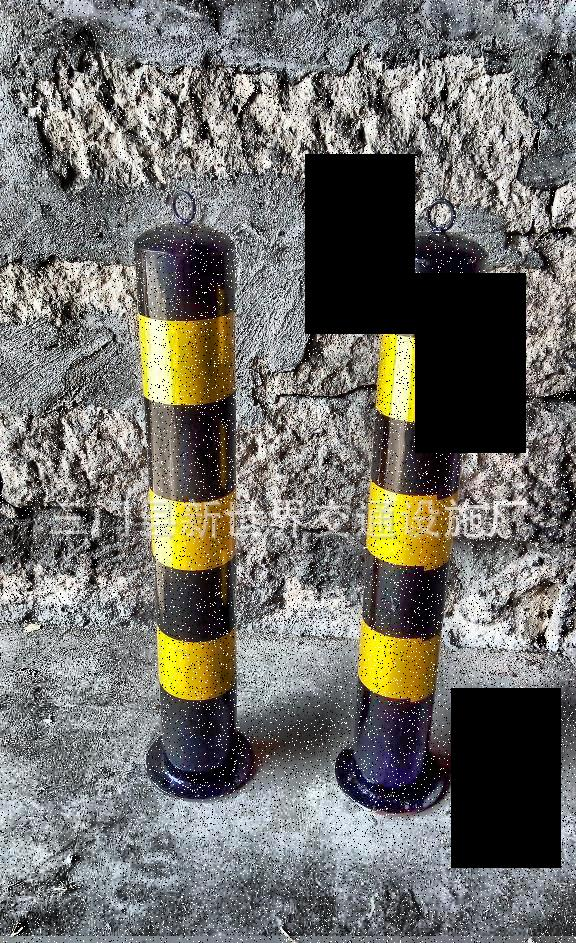bench: (127, 197, 267, 799)
